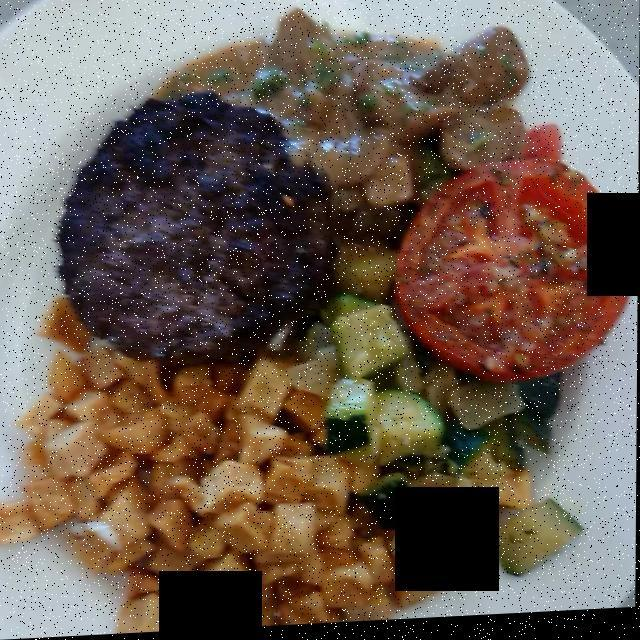hamburger: (49, 92, 316, 356)
potatoes: (28, 310, 470, 628)
sauce: (157, 31, 528, 255)
tomato-cooked: (383, 150, 633, 390)
zucchini: (267, 311, 580, 583)
